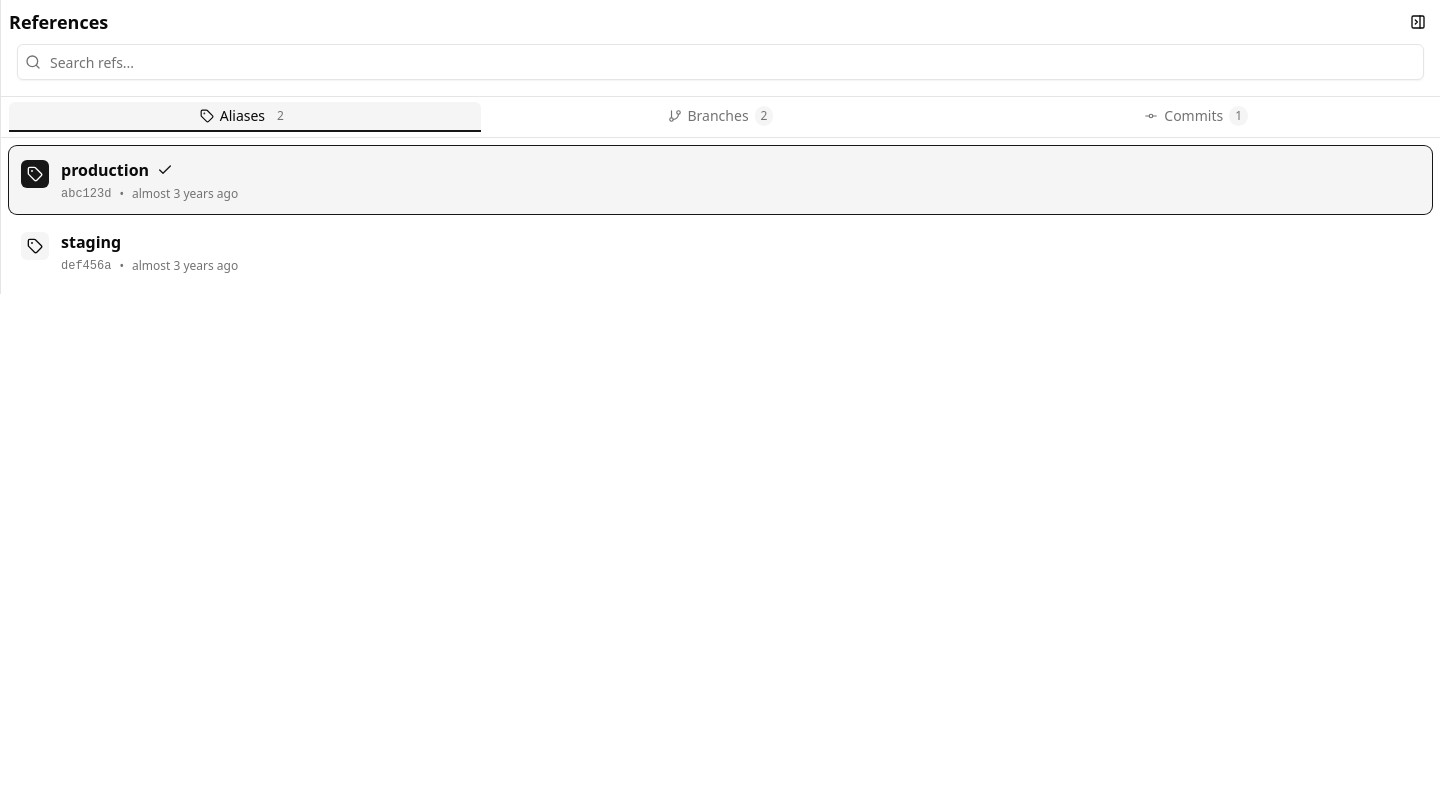
Scenario: RefSelectorSidebar › should filter refs when searching
This screenshot has width=1440, height=810.
Type "production" into the search field with placeholder "Search refs..." at [720, 62], box [17,44,1424,80]
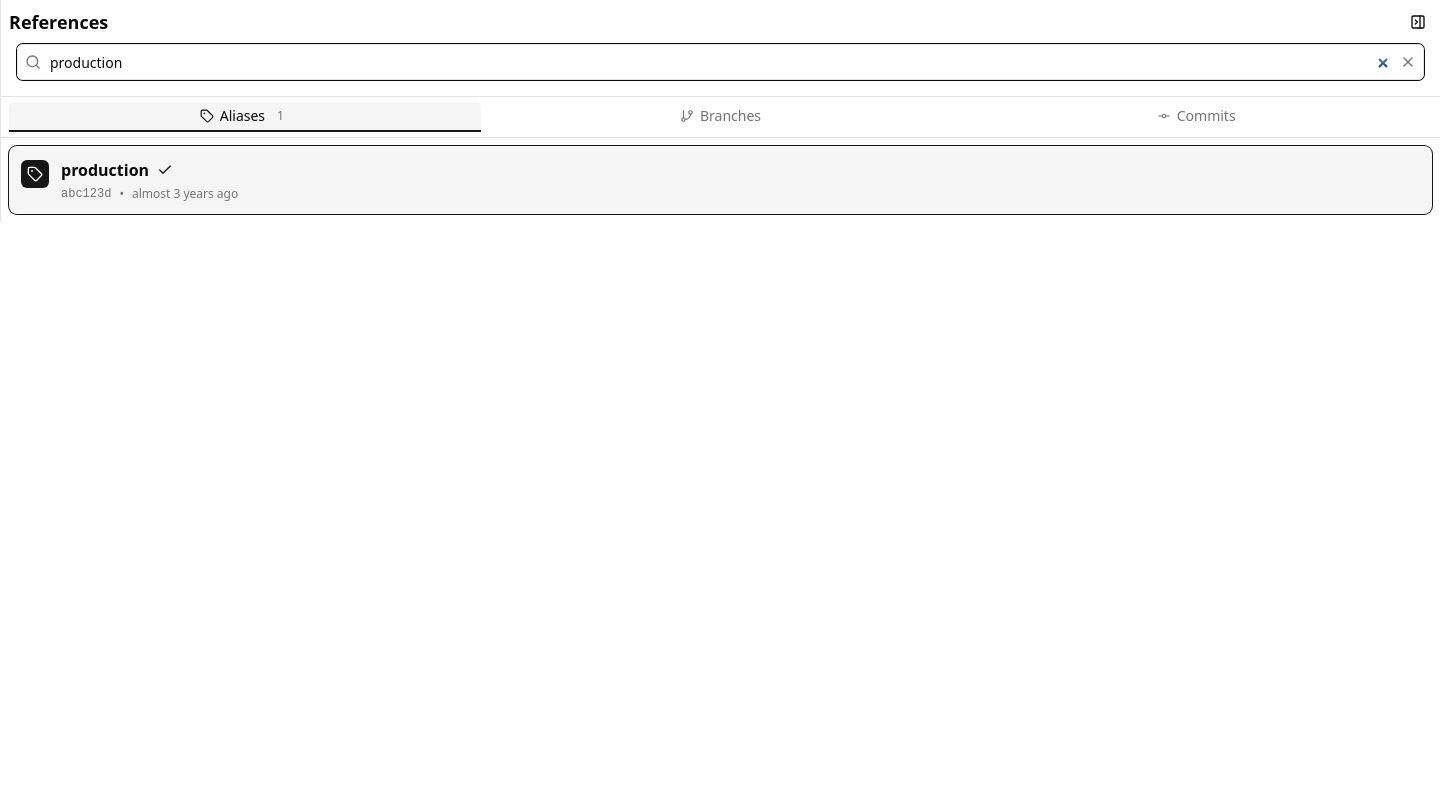
Check: the text "production" is shown, box [61,158,149,182]
Check: the option "staging" is gone
